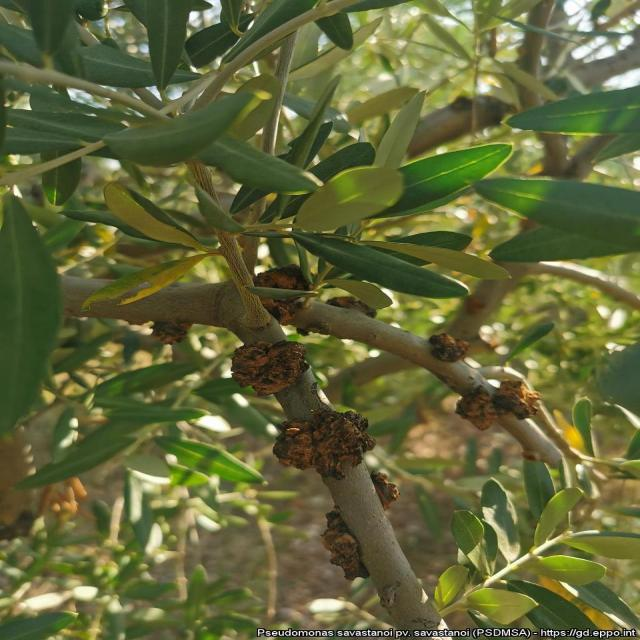Tuberculosis: (273, 406, 375, 479), (231, 341, 309, 396), (321, 509, 368, 580), (492, 380, 539, 420), (456, 389, 499, 430), (255, 264, 309, 290), (370, 471, 399, 510), (430, 334, 468, 362), (326, 297, 376, 318), (261, 298, 301, 324), (151, 322, 191, 345)
